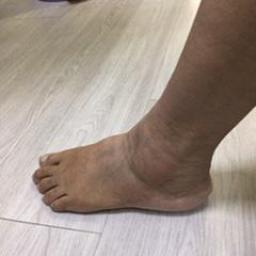Lateral View -Left Foot-: (20, 99, 252, 235)
